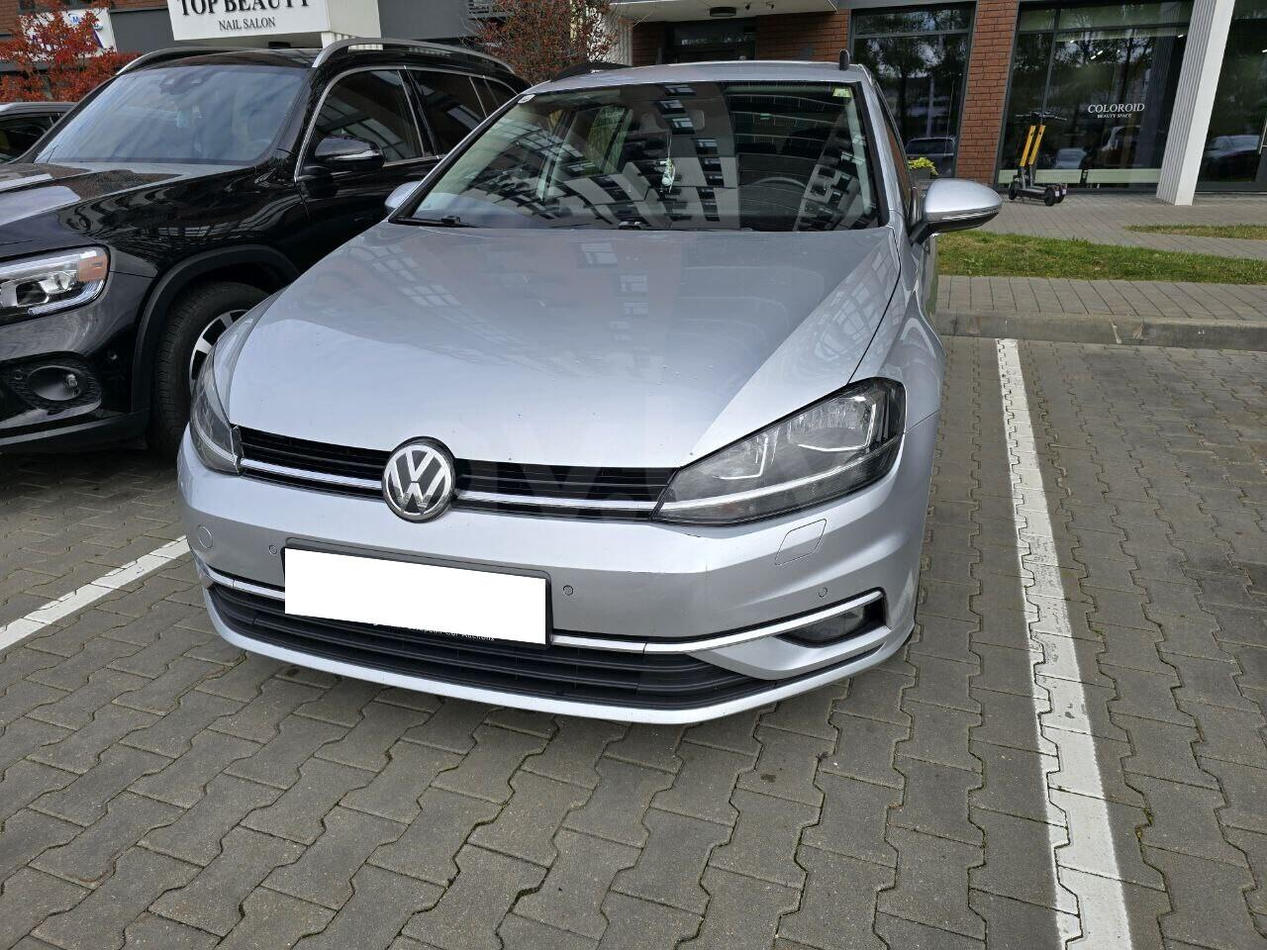Golf_2017-2021: (178, 55, 998, 724)
